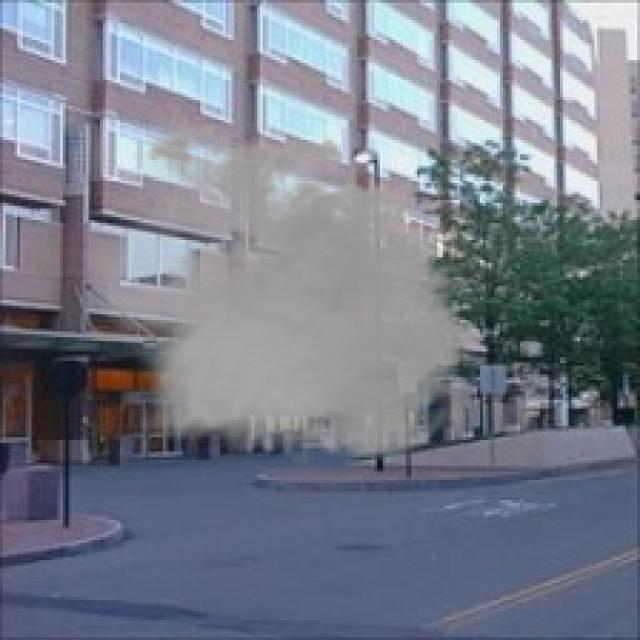smoke: (80, 114, 494, 472)
